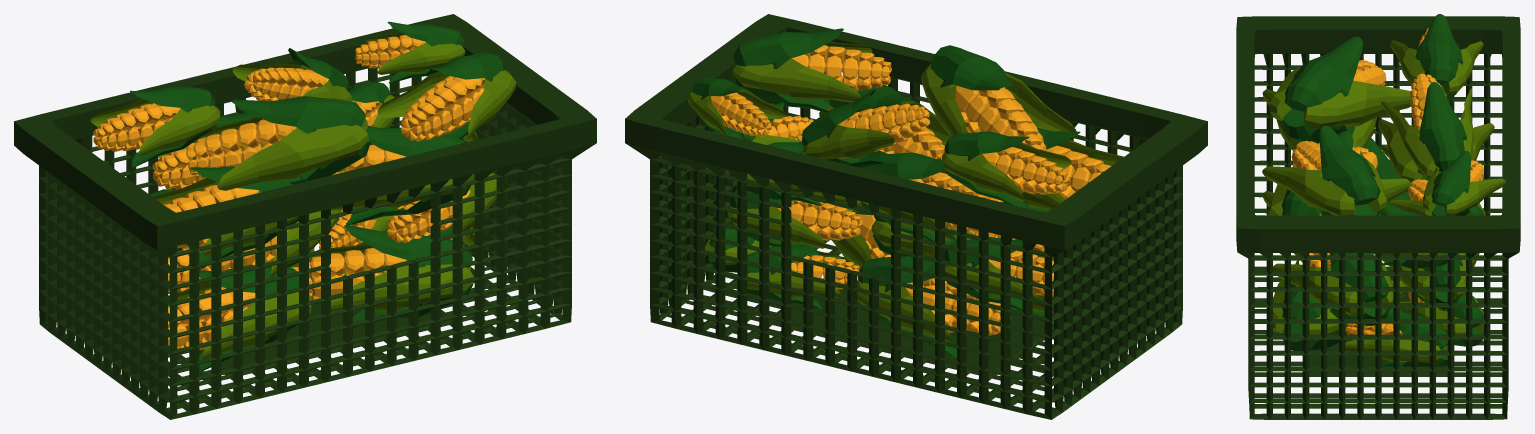
The model's file is box of corn.fbx.
3 views of the same model, side by side, from view 1: azimuth 30°, elevation 25°; view 2: azimuth 150°, elevation 25°; view 3: azimuth 270°, elevation 25° (orthographic).
Parts seen in each view (by area): view 1: Cube, Cylinder.015, Cylinder.016, Cylinder.002, Cylinder.018, Cylinder.001, Cylinder.019, Cylinder.017, Cylinder.011, Cylinder.010, Cylinder.007, Cylinder.013 (+3 smaller); view 2: Cube, Cylinder.016, Cylinder.015, Cylinder.018, Cylinder.017, Cylinder.004, Cylinder.008, Cylinder.019, Cylinder.013, Cylinder.010, Cylinder.005, Cylinder.009 (+6 smaller); view 3: Cube, Cylinder.015, Cylinder.016, Cylinder.017, Cylinder.018, Cylinder.019, Cylinder.007, Cylinder.003, Cylinder.002, Cylinder.011, Cylinder.013, Cylinder.005 (+5 smaller).
Boxes of the visible parts, box(x1,y1,x2,y2) form: Cube: box(14, 14, 596, 419); Cylinder.015: box(186, 96, 370, 190); Cylinder.016: box(377, 53, 516, 141); Cylinder.002: box(291, 225, 473, 327); Cylinder.018: box(90, 86, 220, 167); Cylinder.001: box(168, 265, 312, 372); Cylinder.019: box(355, 21, 465, 83); Cylinder.017: box(232, 48, 352, 101); Cylinder.011: box(331, 126, 473, 225); Cylinder.010: box(152, 166, 304, 269); Cylinder.007: box(371, 173, 496, 242); Cylinder.013: box(152, 112, 255, 189); Cube: box(625, 14, 1207, 419); Cylinder.016: box(732, 28, 891, 112); Cylinder.015: box(921, 45, 1076, 151); Cylinder.018: box(941, 131, 1071, 208); Cylinder.017: box(802, 89, 930, 167); Cylinder.004: box(857, 256, 1010, 357); Cylinder.008: box(727, 189, 862, 256); Cylinder.019: box(687, 78, 785, 139); Cylinder.013: box(860, 152, 1003, 248); Cylinder.010: box(1003, 127, 1123, 212); Cylinder.005: box(747, 244, 859, 308); Cylinder.009: box(945, 237, 1053, 313); Cube: box(1236, 16, 1520, 419); Cylinder.015: box(1269, 36, 1411, 143); Cylinder.016: box(1262, 125, 1386, 215); Cylinder.017: box(1380, 73, 1473, 179); Cylinder.018: box(1390, 14, 1483, 101); Cylinder.019: box(1423, 151, 1505, 215); Cylinder.007: box(1273, 253, 1393, 325); Cylinder.003: box(1345, 307, 1447, 366); Cylinder.002: box(1273, 260, 1408, 350); Cylinder.011: box(1267, 131, 1411, 215); Cylinder.013: box(1378, 98, 1494, 186); Cylinder.005: box(1399, 291, 1483, 346).
Bounding box in the file's own units: 397 × 216 × 224.
